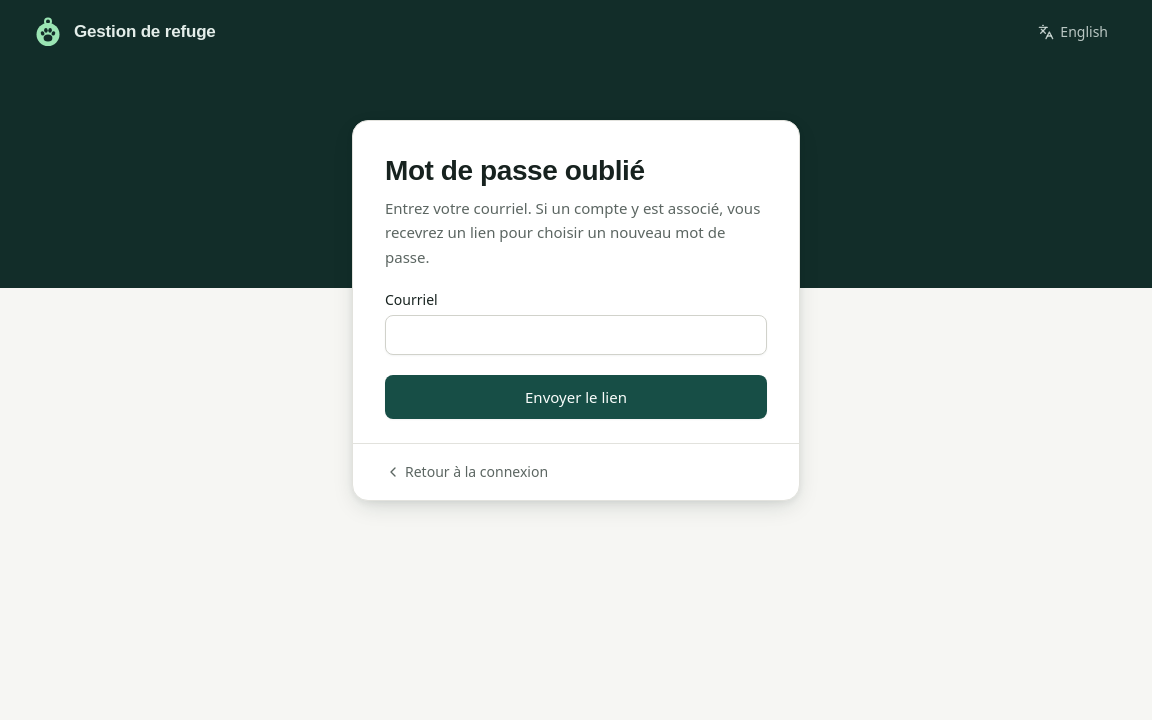
Test: forms › asks for an email before requesting a reset link
Type "camille" into the field labelled "Courriel" at {"x": 576, "y": 335}, box [385,315,767,355]
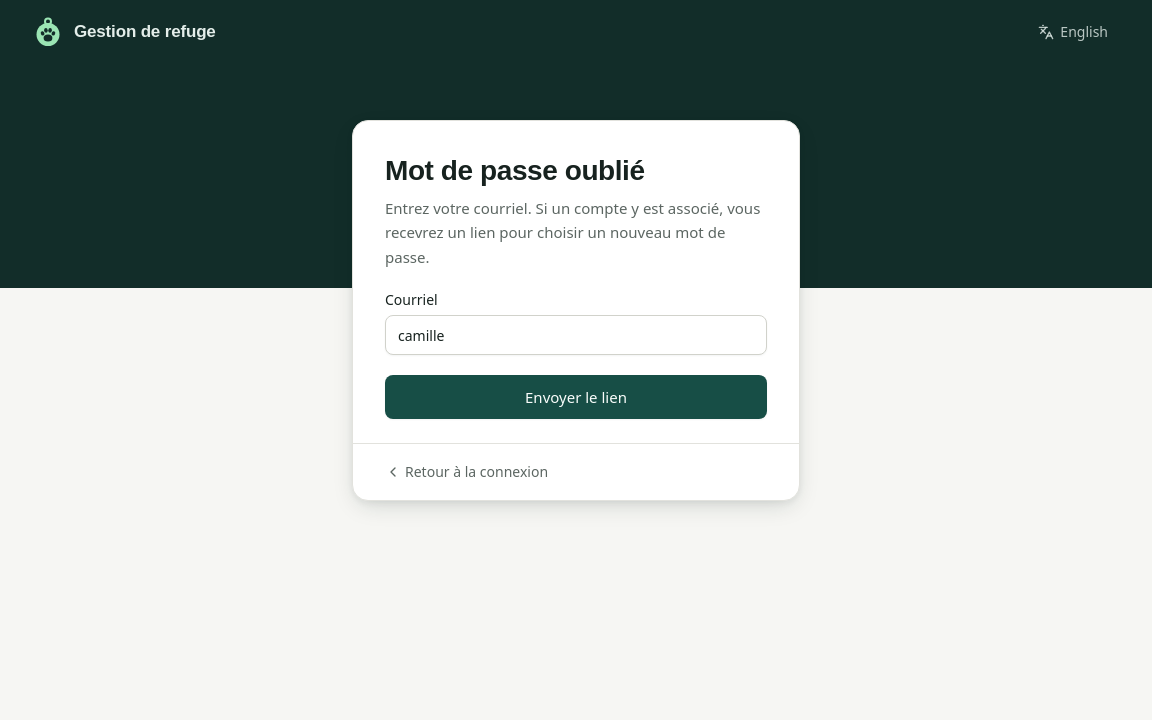
Click the button "Envoyer le lien" at {"x": 576, "y": 397}, box [385,375,767,419]
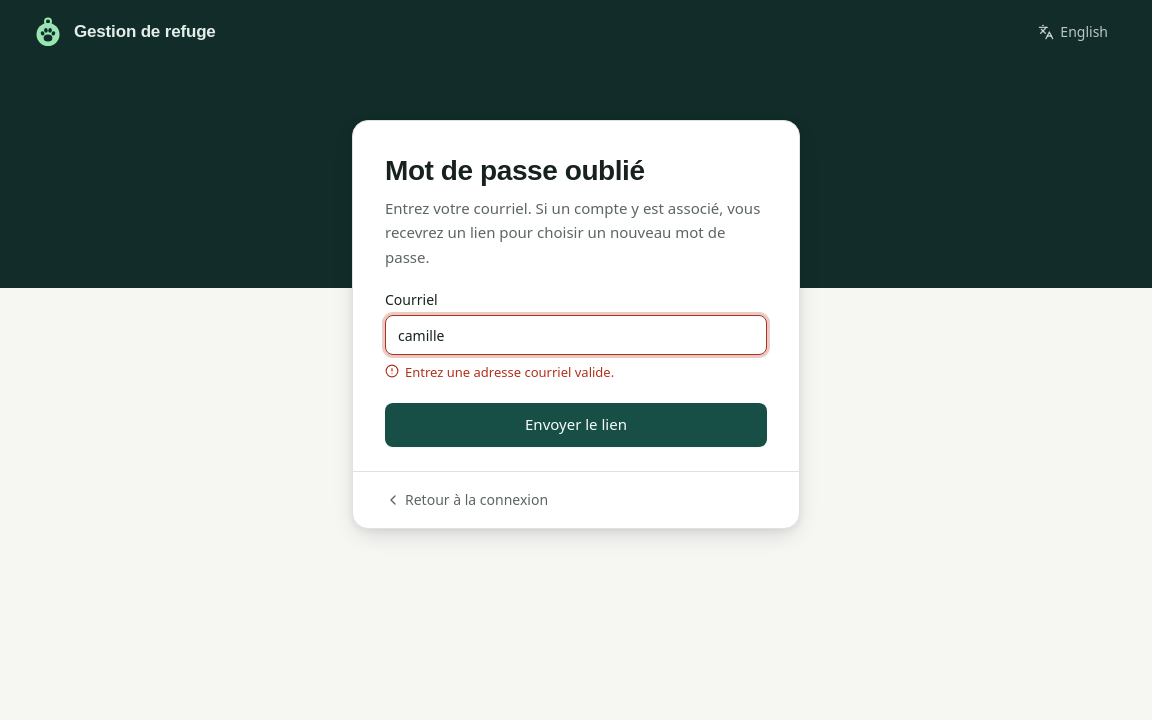
Expected: the text "Entrez une adresse courriel valide." is shown, [385,363,614,381]
